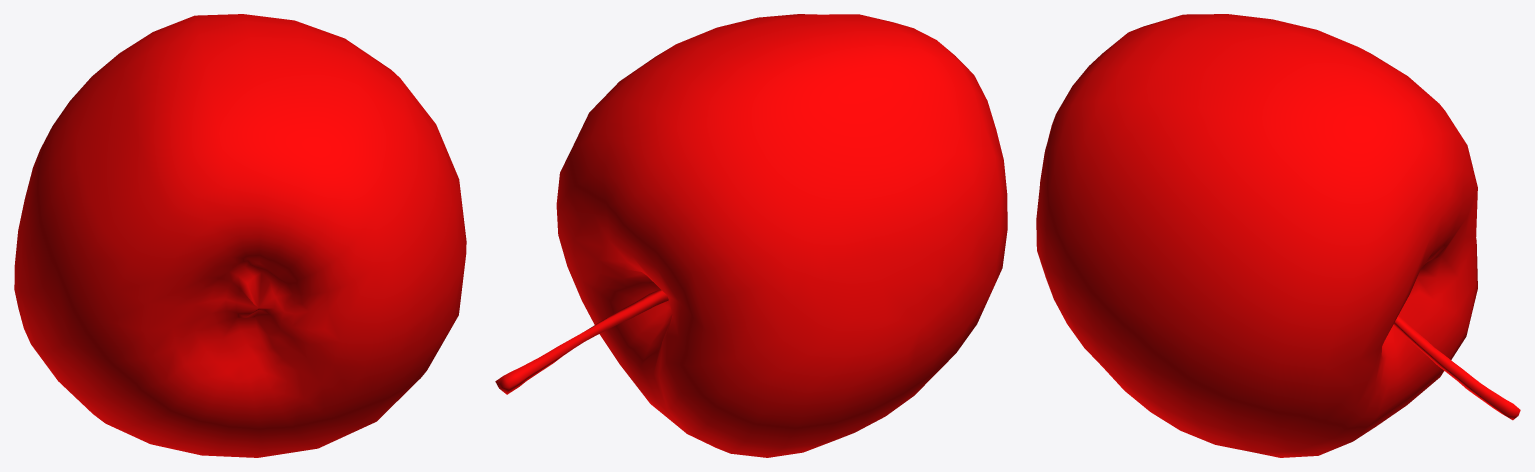
File: apple2.FBX
3 renders of one model, left to right at view 1: azimuth 30°, elevation 25°; view 2: azimuth 150°, elevation 25°; view 3: azimuth 270°, elevation 25°, orthographic. The views are drawn at different scales.
Parts seen in each view (by area): view 1: apple2; view 2: apple2; view 3: apple2.
Boxes of the visible parts, box(x1,y1,x2,y2) form: apple2: box(14, 14, 466, 457); apple2: box(495, 14, 1007, 457); apple2: box(1036, 14, 1520, 457).
Bounding box in the file's own units: 59.7 × 57.52 × 65.42.
